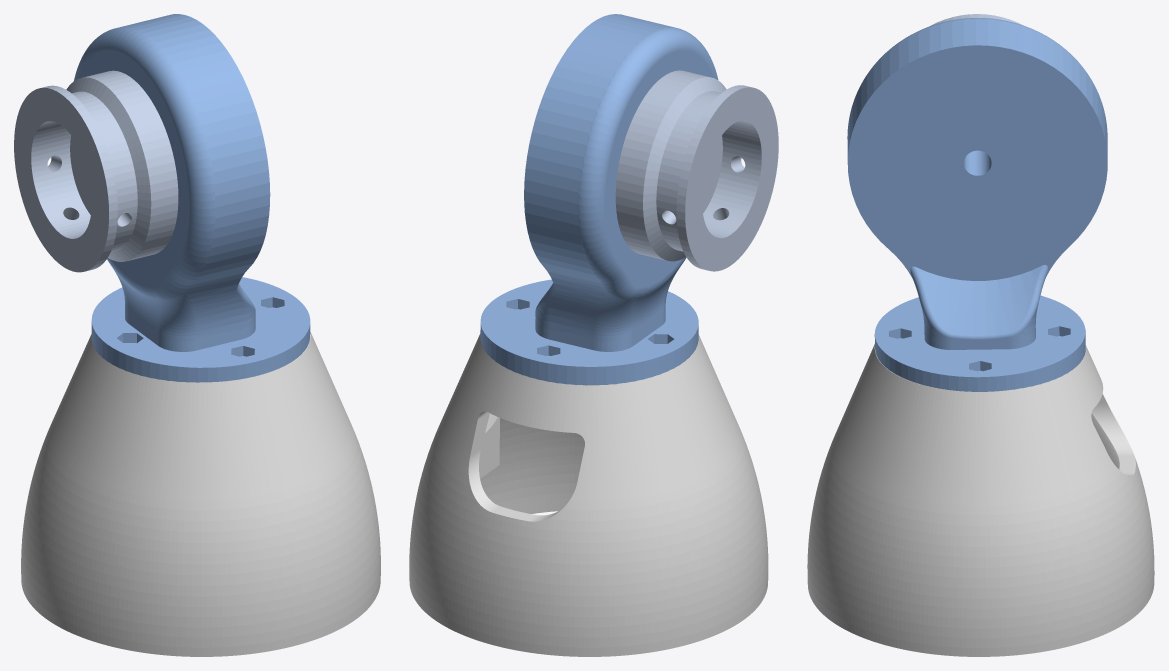
The model's file is codo_izq.dae.
The picture shows the model from 3 angles, left to right: view 1: azimuth 30°, elevation 25°; view 2: azimuth 150°, elevation 25°; view 3: azimuth 270°, elevation 25°; orthographic projection. The views are drawn at different scales.
Visible parts, largest first — view 1: Forearm9-1-1, E5P1.001, E5P1.002; view 2: Forearm9-1-1, E5P1.001, E5P1.002; view 3: Forearm9-1-1, E5P1.001.
Boxes of the visible parts, box(x1,y1,x2,y2) form: Forearm9-1-1: box(21, 332, 380, 656); E5P1.001: box(74, 14, 310, 382); E5P1.002: box(14, 70, 178, 272); Forearm9-1-1: box(409, 334, 768, 656); E5P1.001: box(480, 14, 718, 385); E5P1.002: box(615, 70, 778, 271); Forearm9-1-1: box(807, 344, 1154, 656); E5P1.001: box(847, 18, 1107, 391).
Size of the model in its own units: 0.0872 by 0.0872 by 0.1495.
